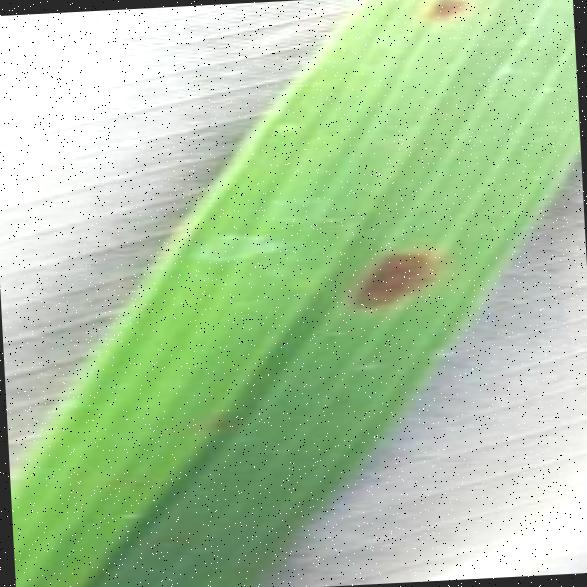Brown_Spot: (332, 236, 452, 318), (405, 0, 479, 31), (202, 408, 233, 434), (231, 391, 266, 414)
